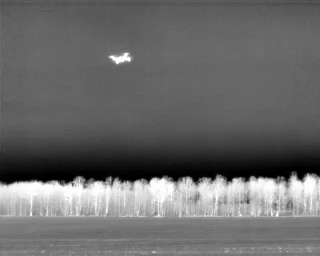DRONE: (105, 48, 136, 69)
